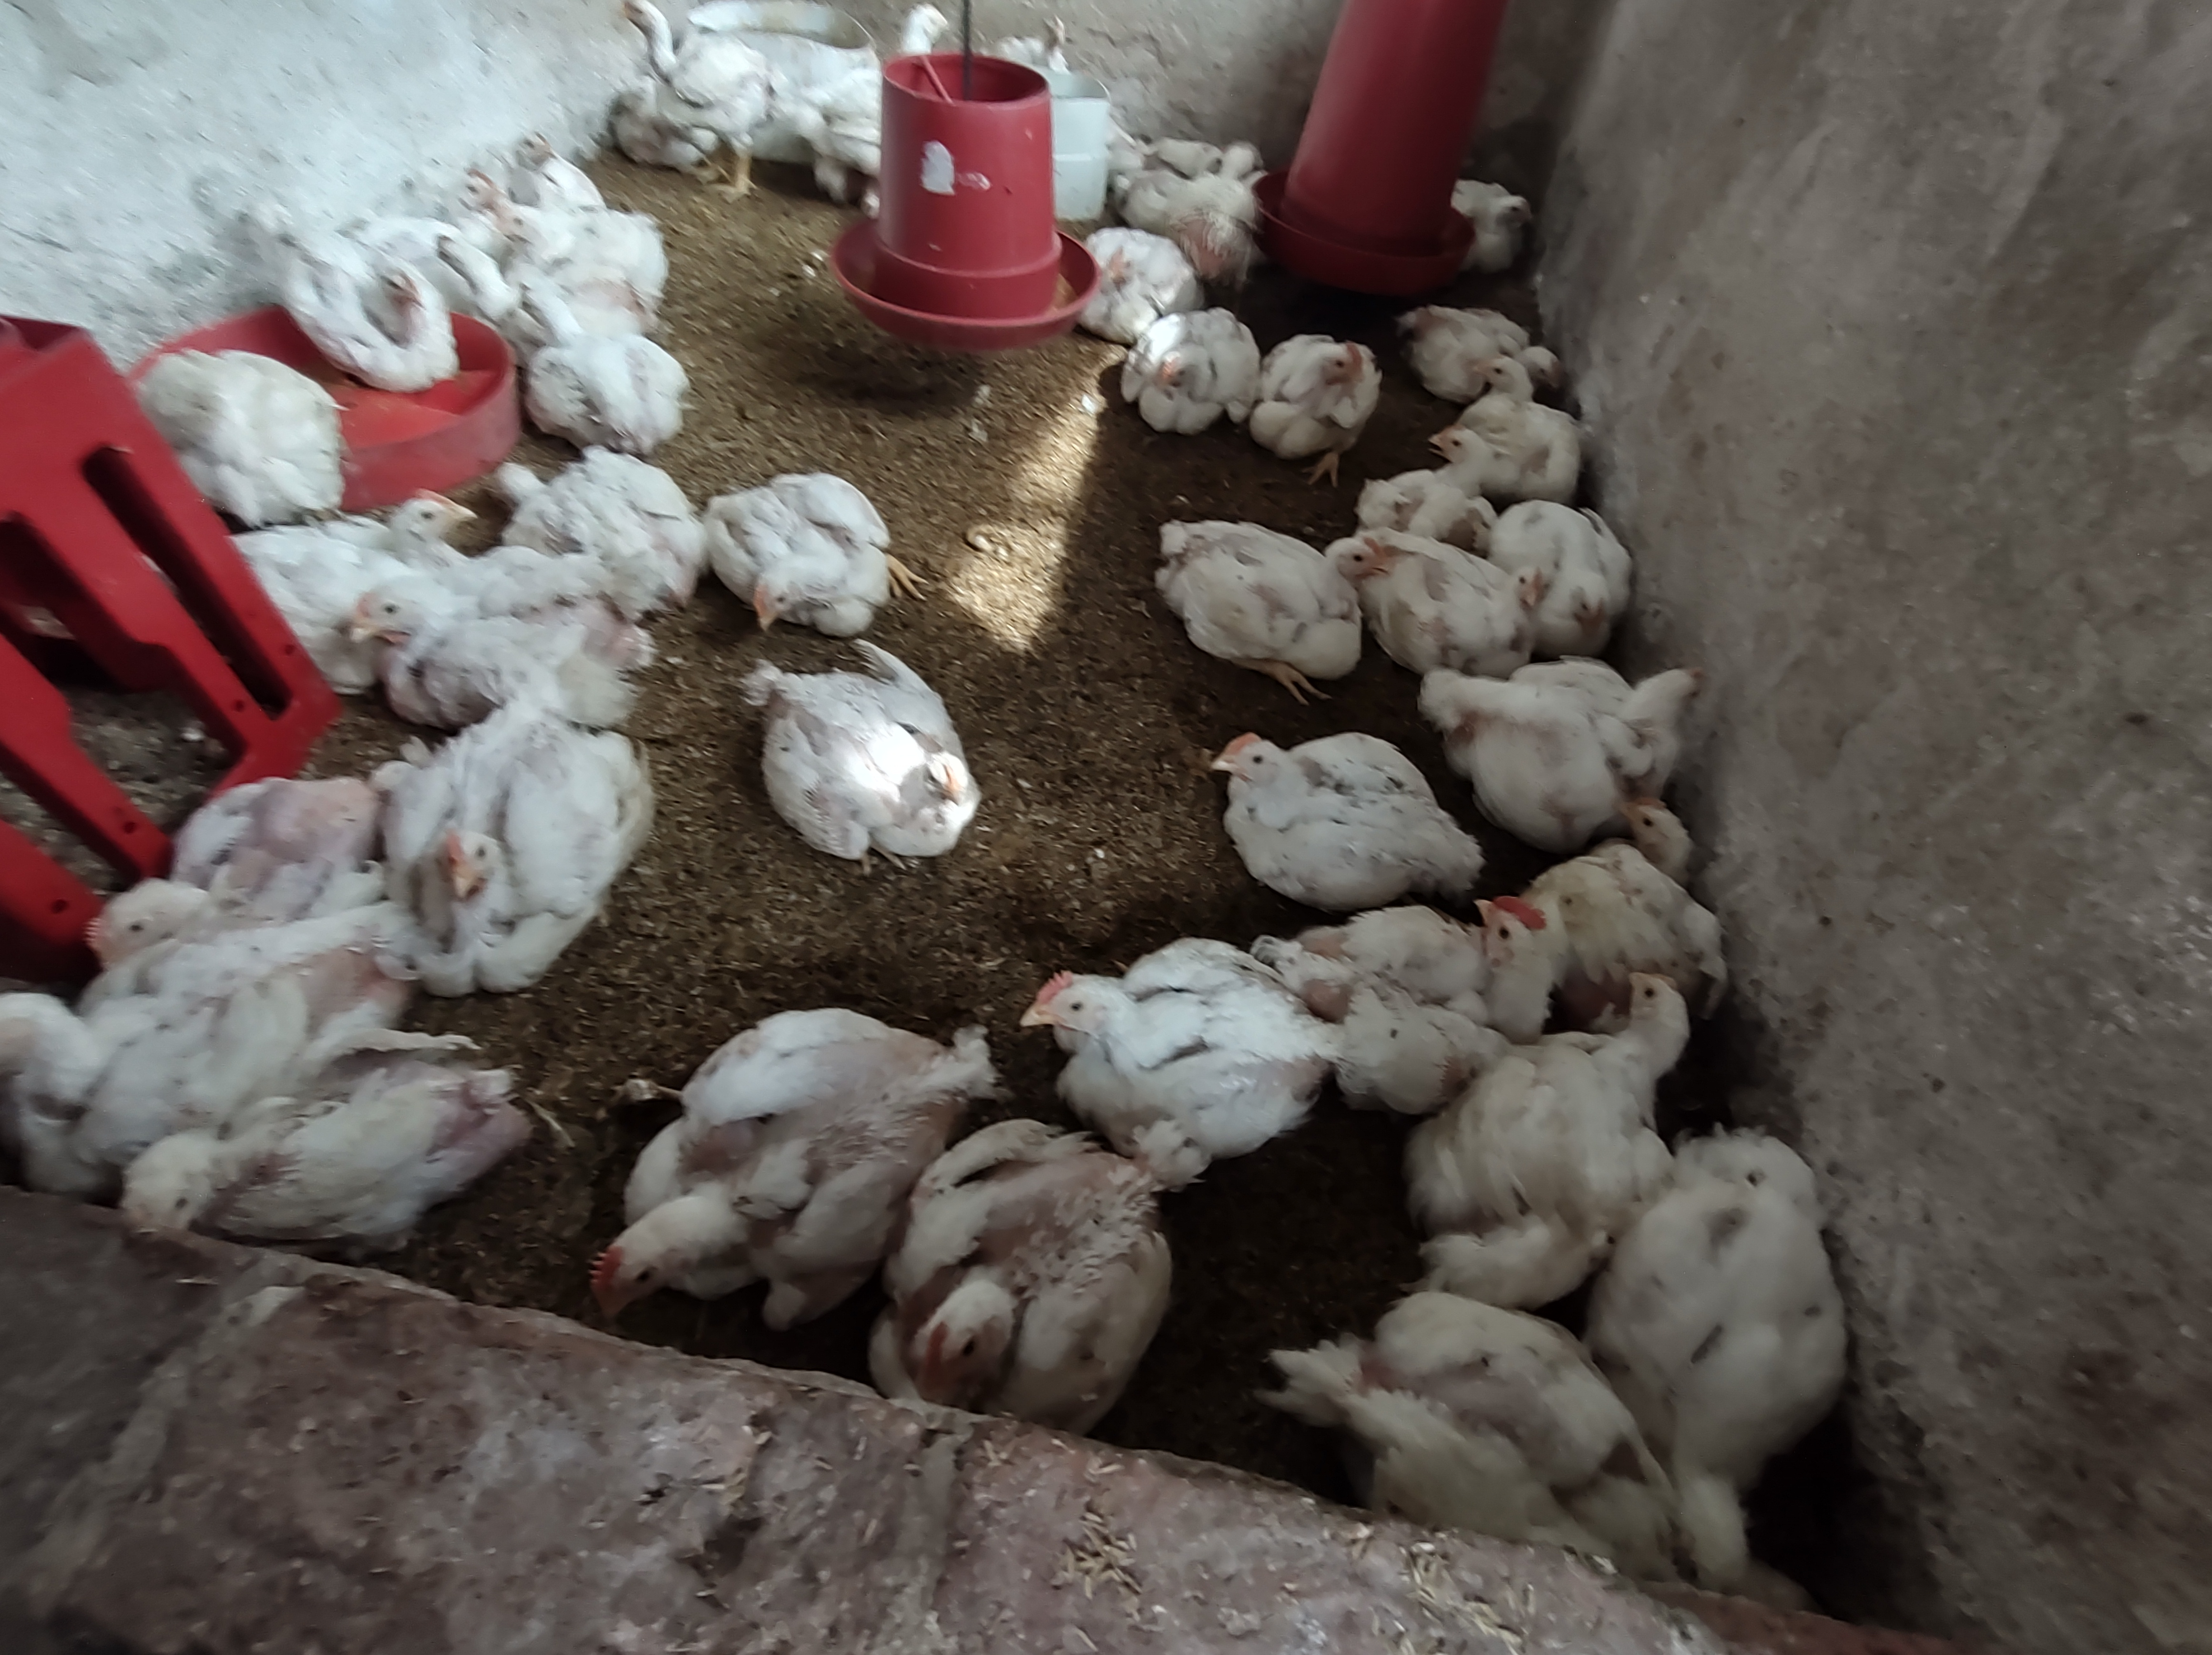Pollos: (590, 1031, 889, 1328), (889, 1153, 1162, 1387), (120, 1057, 456, 1246), (398, 716, 596, 974), (1522, 974, 1687, 1245), (1014, 963, 1301, 1111), (101, 770, 318, 963), (1214, 727, 1469, 890), (348, 570, 659, 702), (1462, 652, 1706, 817), (1327, 887, 1551, 1052), (776, 678, 984, 841), (1160, 516, 1386, 657), (264, 214, 449, 376), (718, 485, 904, 638), (607, 0, 777, 137), (513, 273, 640, 435), (1565, 800, 1701, 940), (1499, 502, 1616, 629), (489, 443, 631, 546), (470, 203, 645, 273), (1123, 313, 1240, 417), (1269, 336, 1370, 443), (327, 482, 470, 555), (1414, 422, 1499, 520), (1389, 294, 1473, 386), (1475, 346, 1567, 419), (1094, 238, 1177, 318), (430, 156, 510, 233), (1468, 179, 1532, 254), (508, 125, 576, 191), (1009, 9, 1073, 68)
